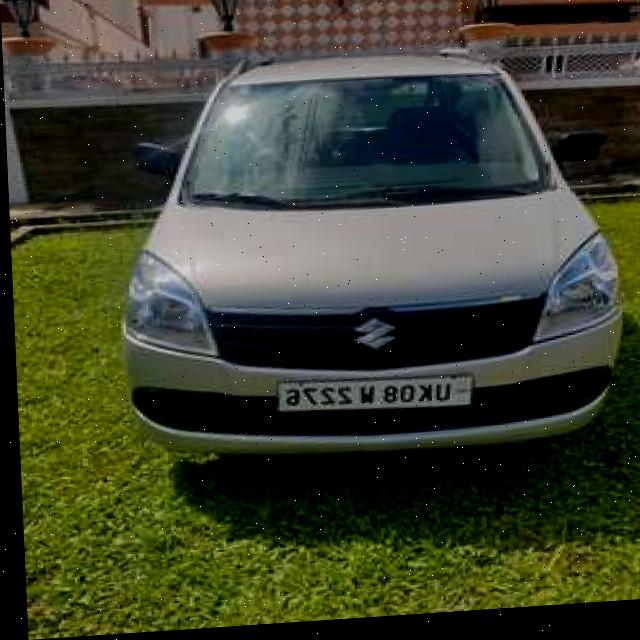plate: (273, 374, 471, 426)
